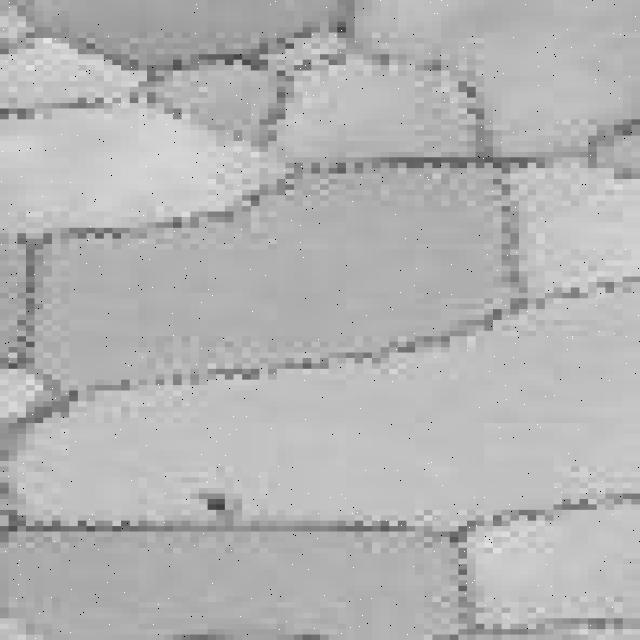good_void: (193, 491, 238, 519)
